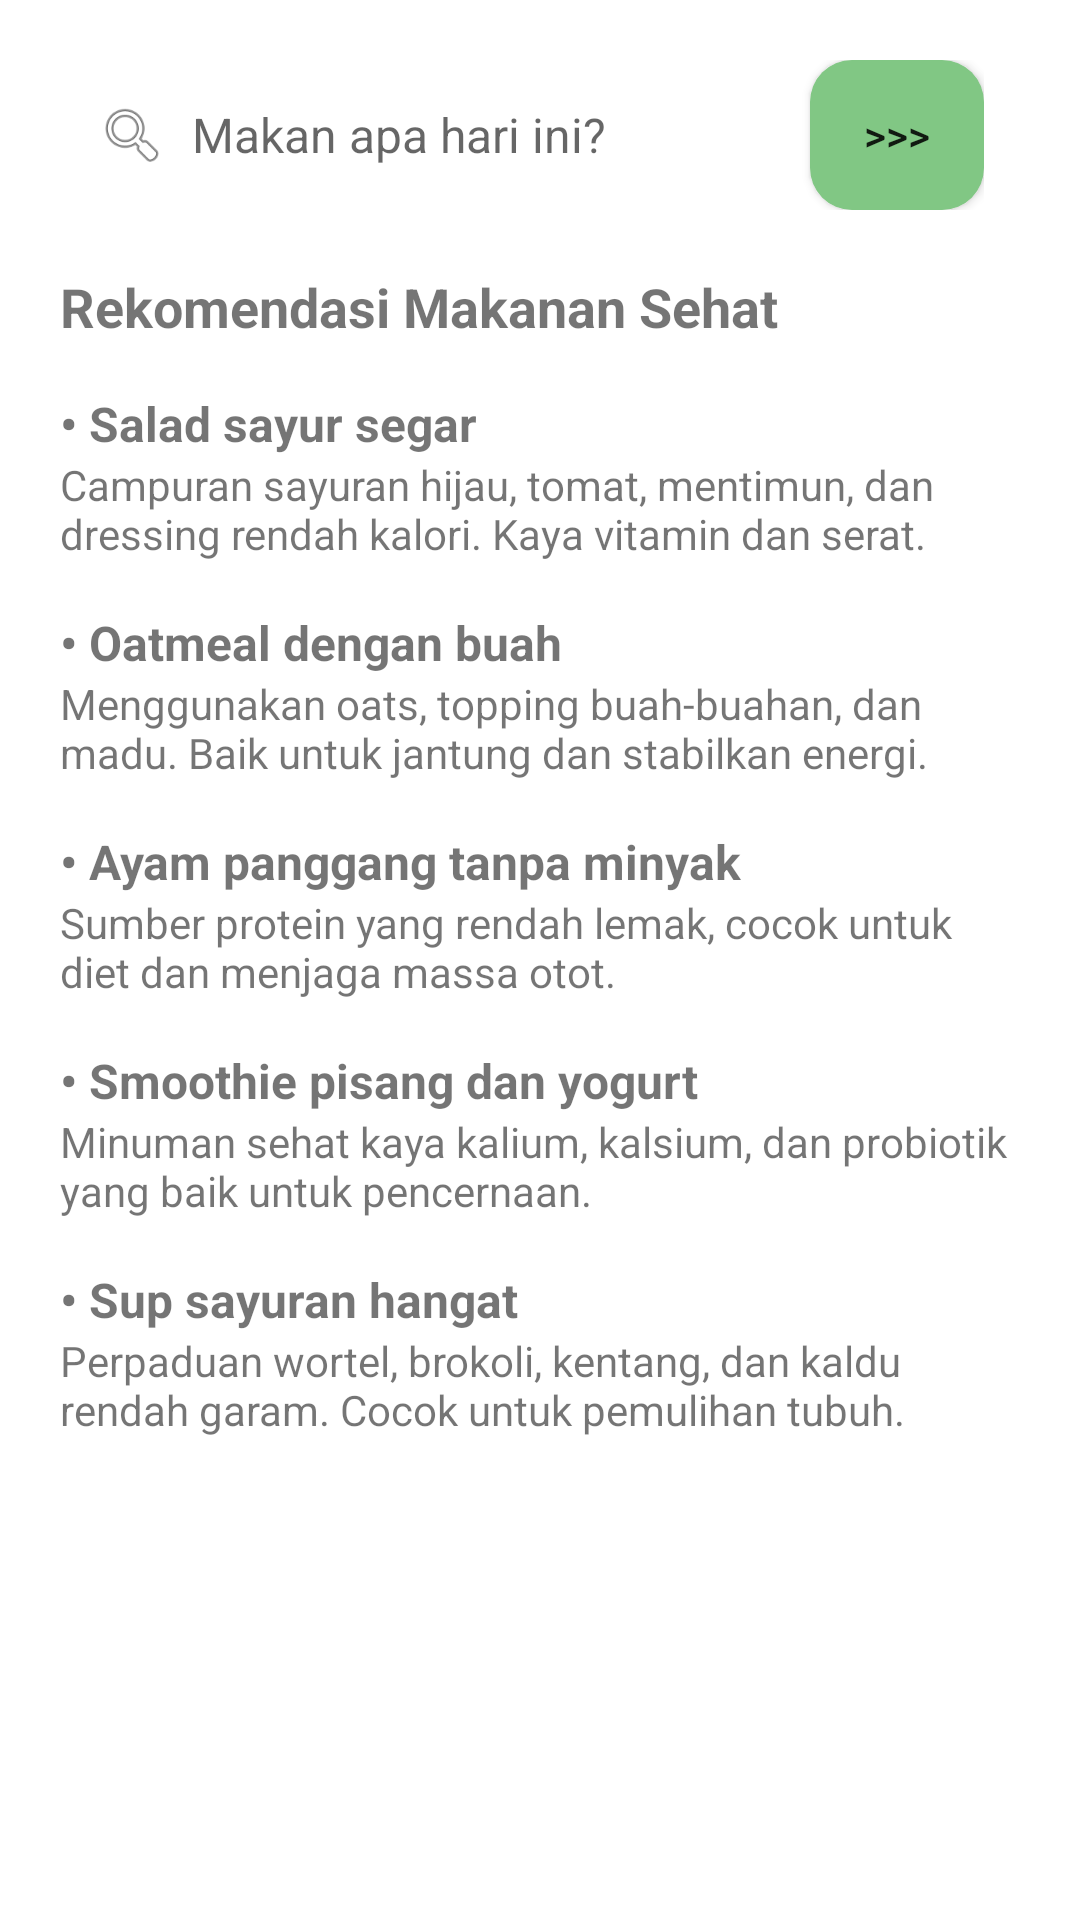

Icon click points for this 1080×1920 phone screenshot, format (x=x, y=y):
search: (x=132, y=135)
